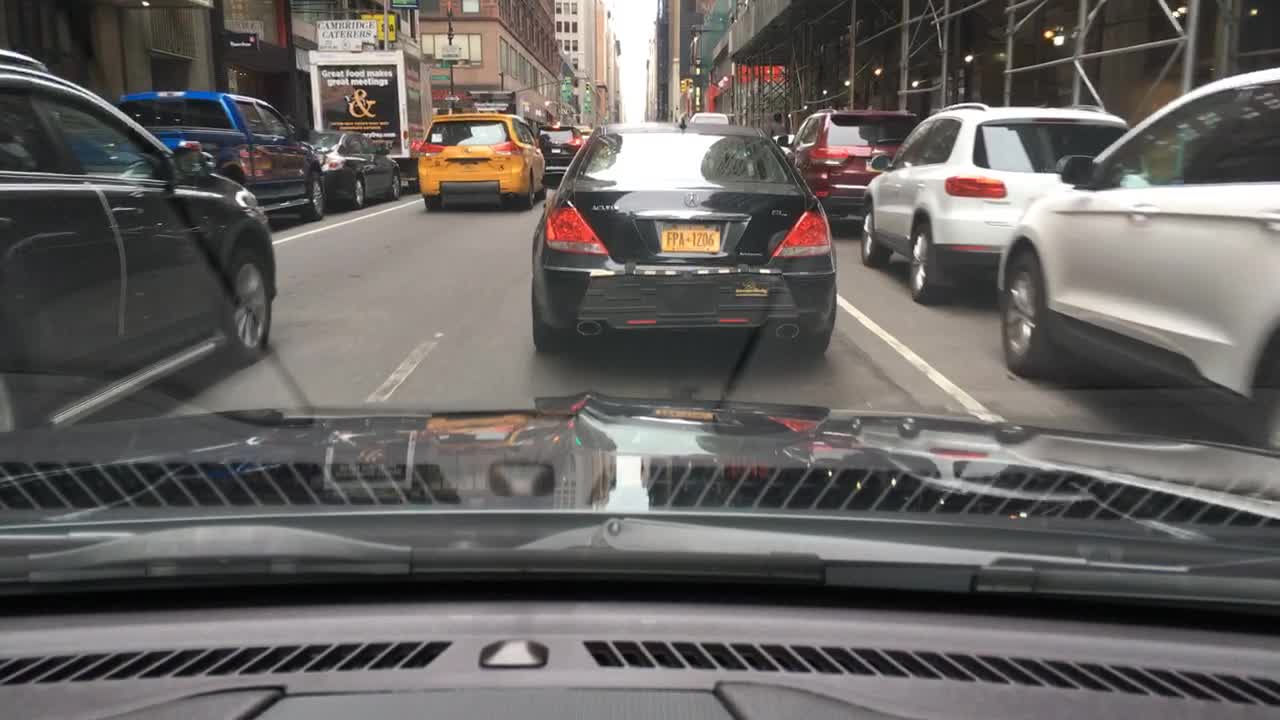car: (994, 68, 1279, 445), (0, 46, 277, 432), (527, 114, 840, 353), (855, 100, 1133, 301), (115, 87, 330, 229), (799, 104, 917, 221), (416, 110, 544, 212), (308, 125, 406, 207), (536, 121, 581, 177), (770, 126, 804, 157), (688, 107, 727, 128), (573, 119, 594, 144)
traffic light: (582, 80, 590, 98), (688, 78, 696, 91), (679, 80, 685, 92)
traffic sign: (443, 44, 460, 59), (440, 90, 464, 100), (434, 59, 452, 69), (432, 73, 449, 80)
truck: (304, 44, 438, 177)
